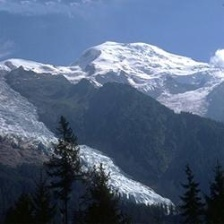neutral: (5, 108, 224, 218)
